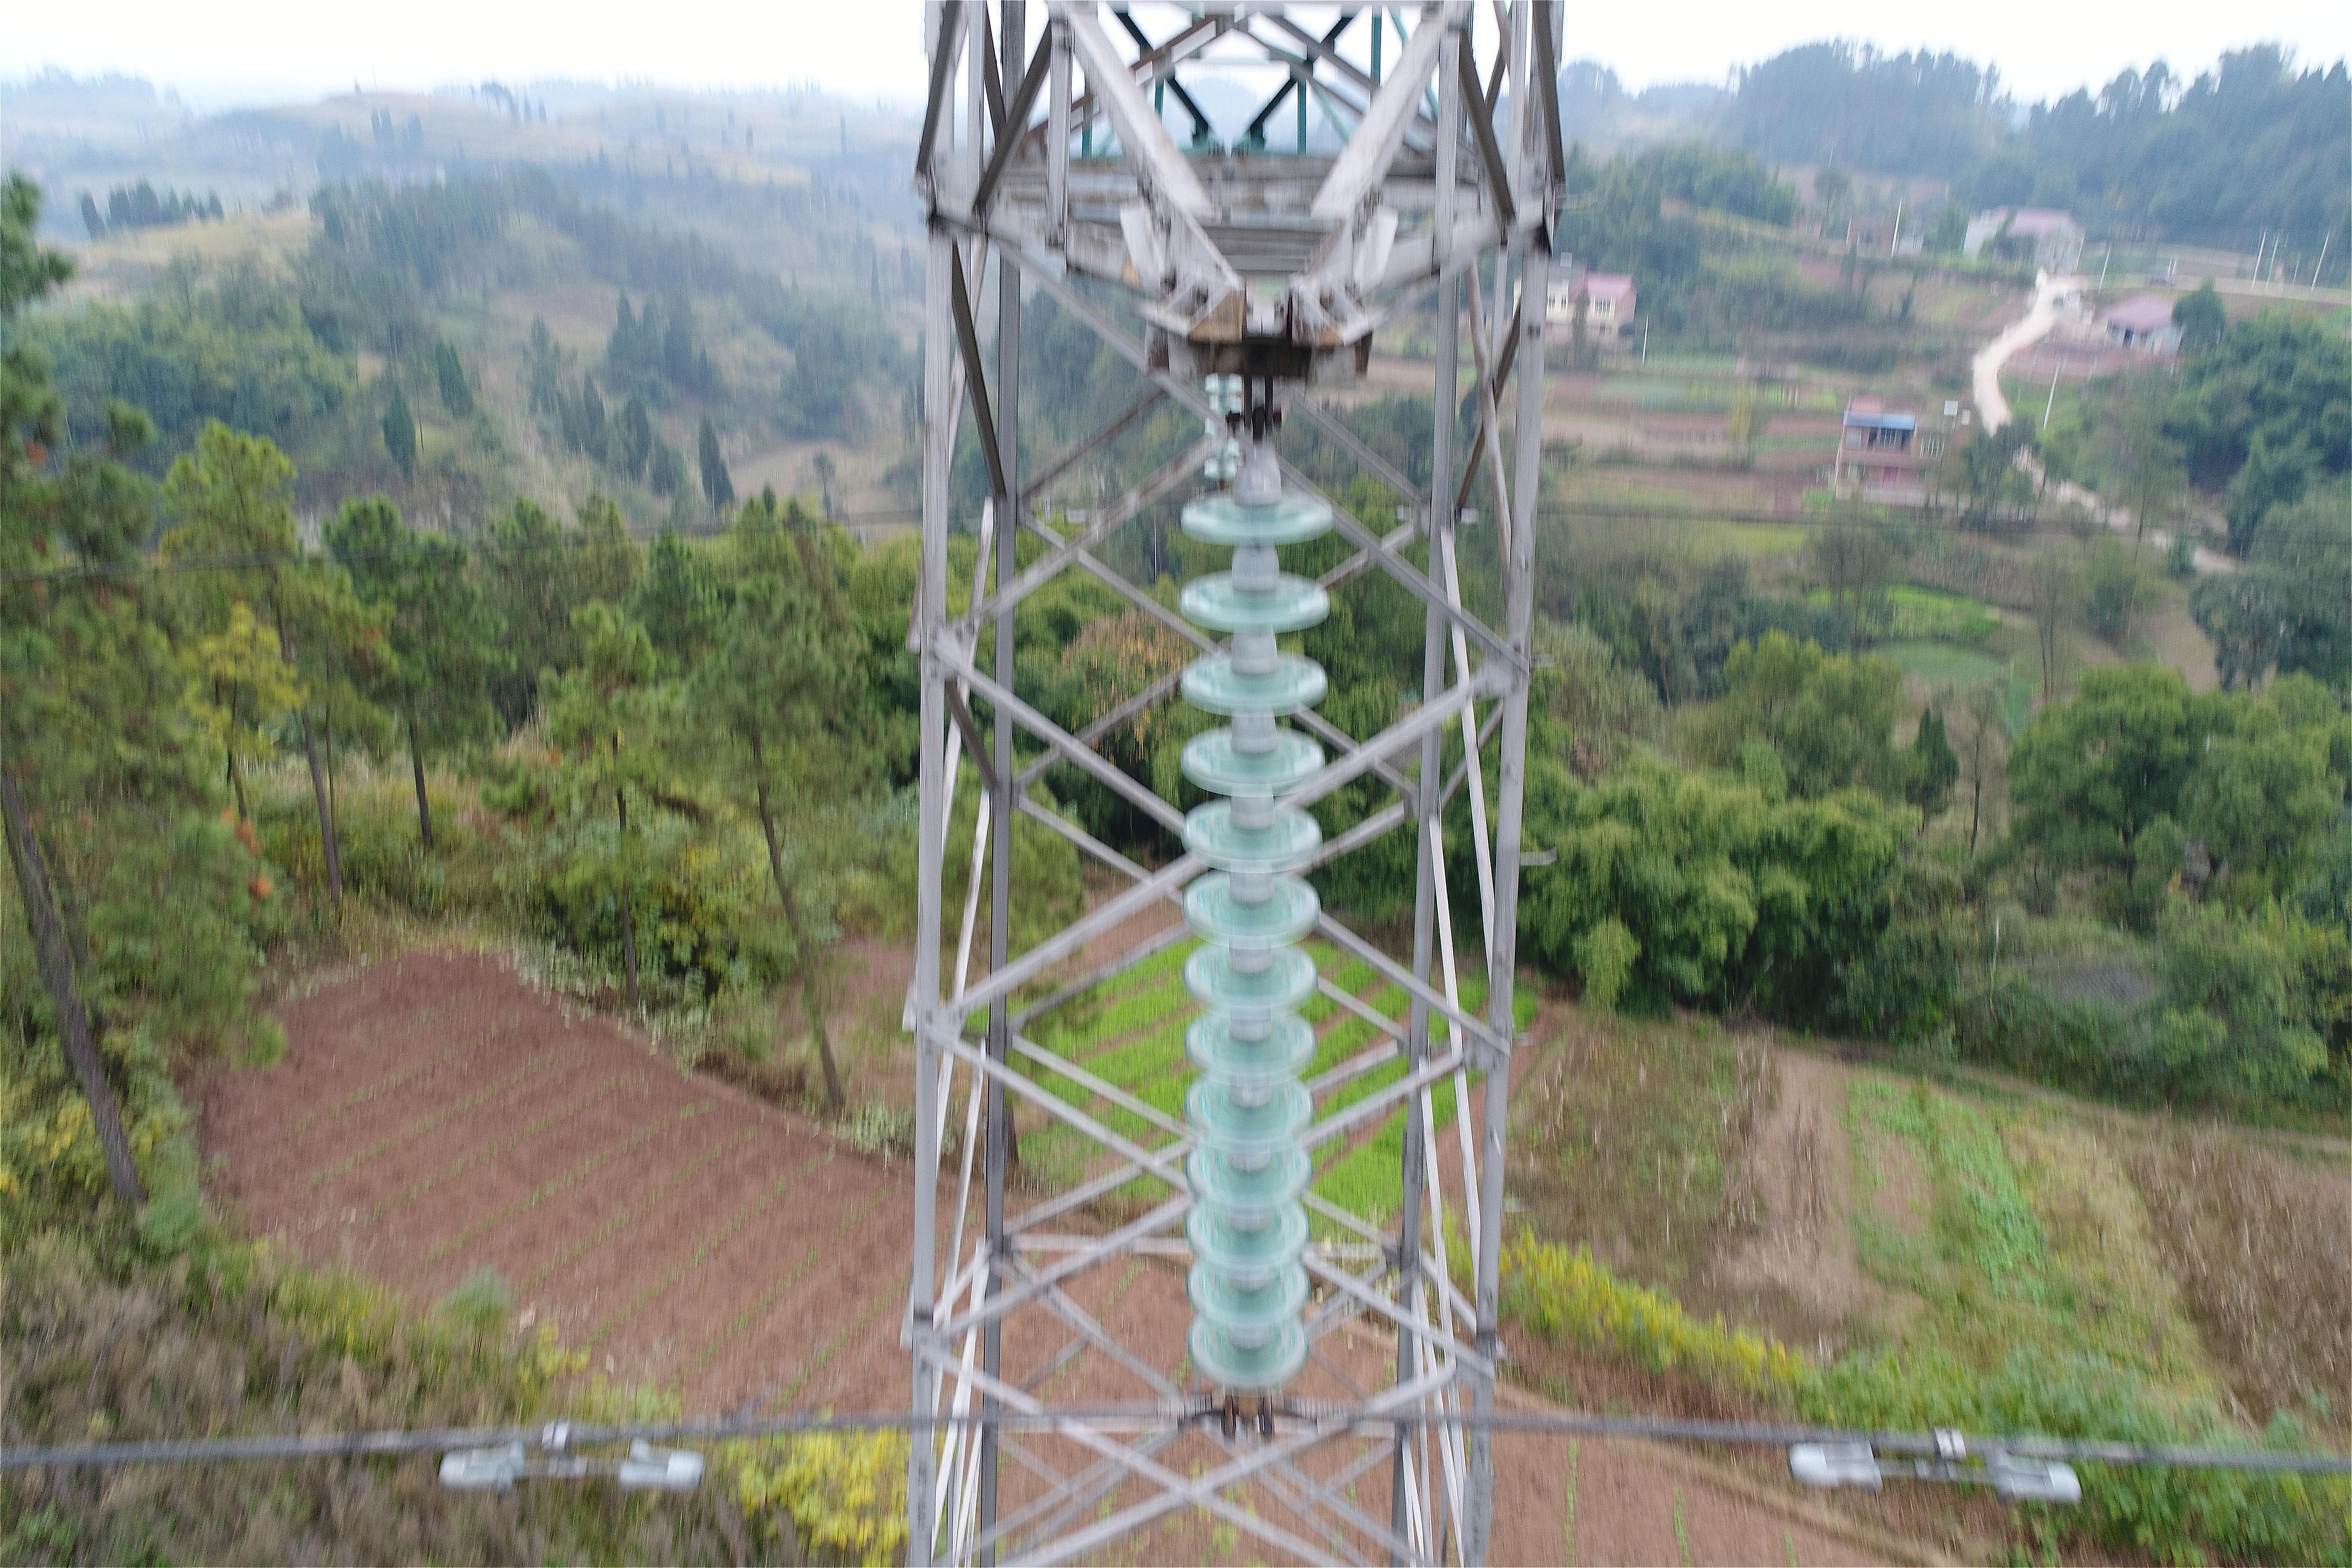insultor3: (1137, 464, 1346, 1386)
